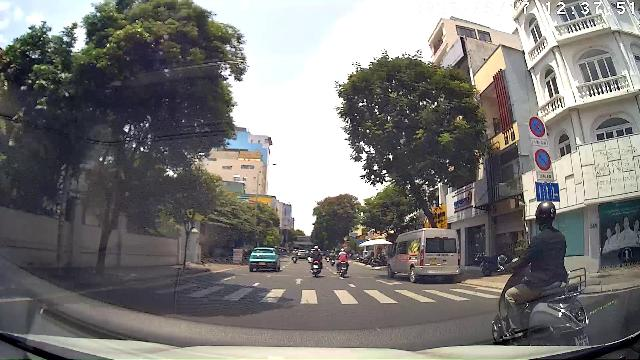130-cam-dung-va-do-xe: (529, 116, 545, 138)
131a-cam-do-xe: (535, 148, 551, 171)
